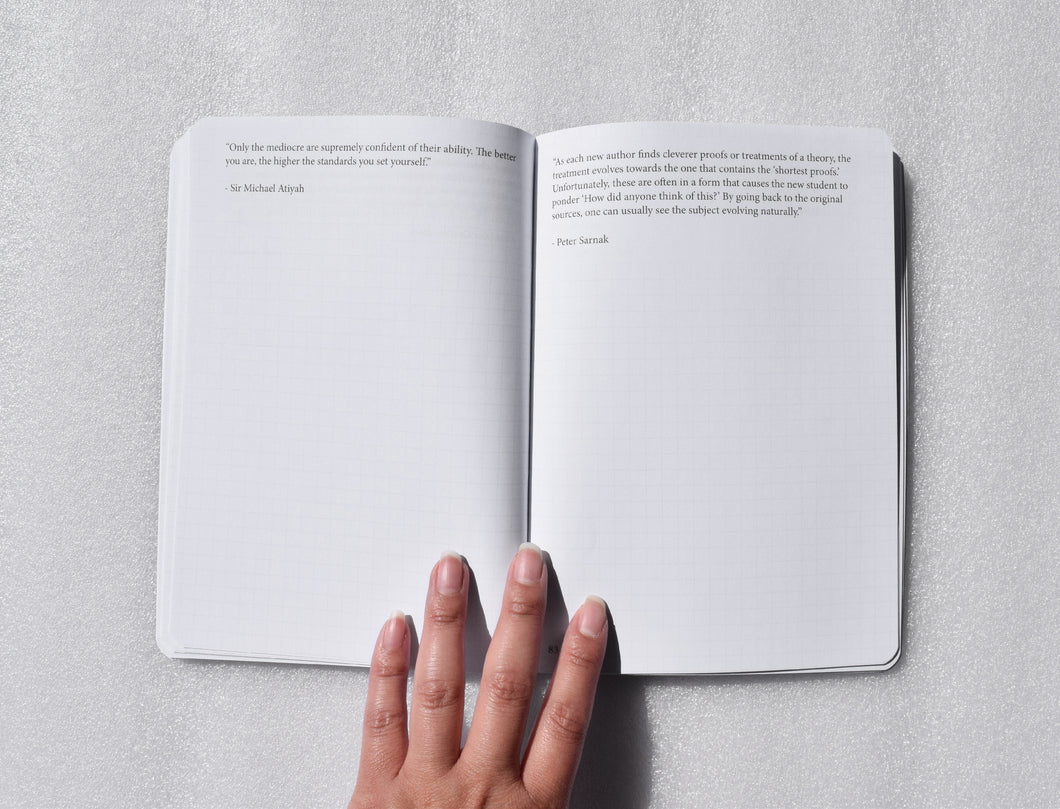notebook: (528, 118, 919, 684), (149, 119, 538, 686)
